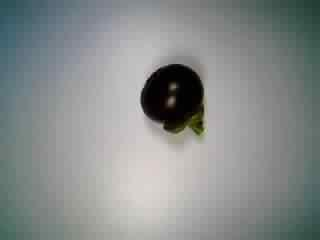mangosteen: (134, 58, 211, 140)
